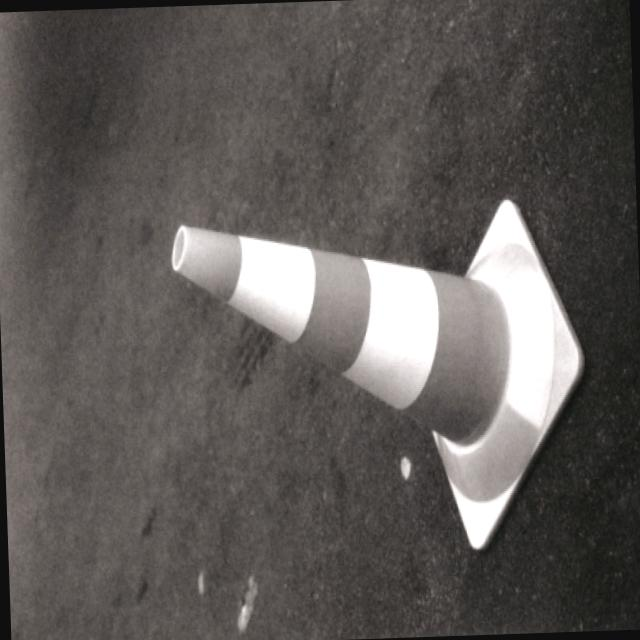cone: (102, 141, 604, 640)
